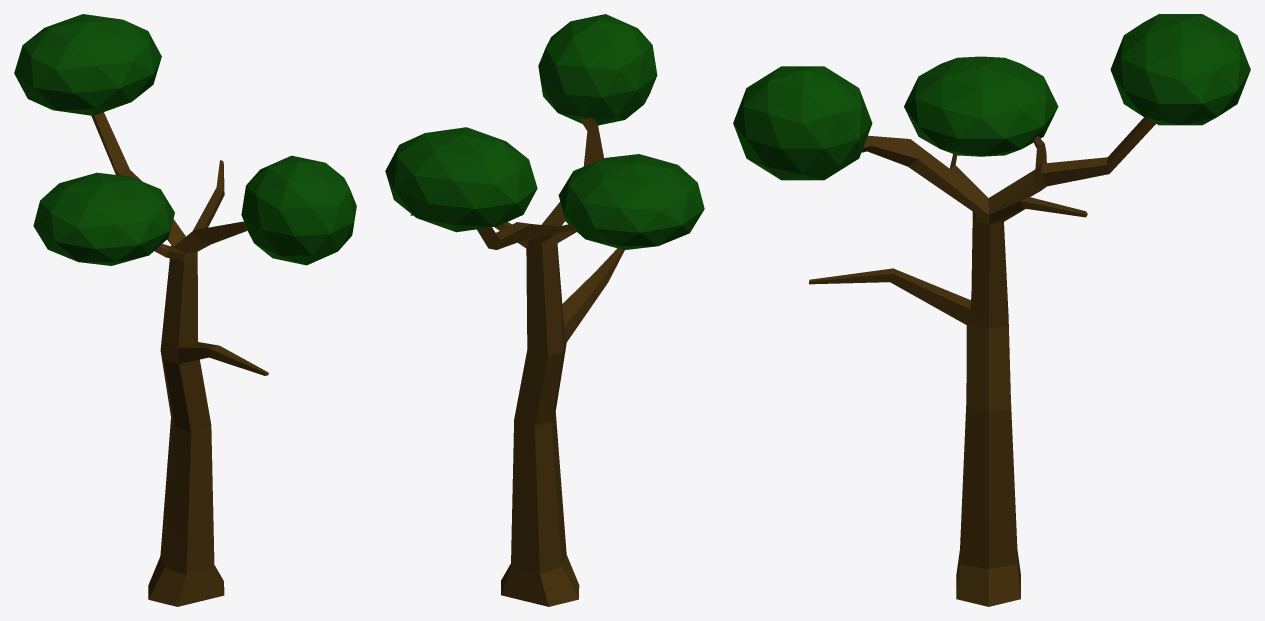
The model's file is _tree1.fbx.
3 renders of one model, left to right at view 1: azimuth 30°, elevation 25°; view 2: azimuth 150°, elevation 25°; view 3: azimuth 270°, elevation 25°, orthographic. The views are drawn at different scales.
Visible parts, largest first — view 1: TreeTrunk, TreeStump; view 2: TreeTrunk, TreeStump; view 3: TreeTrunk, TreeStump.
Part boxes in pixels (bbox=[...]): TreeTrunk: bbox=[14, 14, 356, 532]; TreeStump: bbox=[148, 515, 224, 606]; TreeTrunk: bbox=[385, 14, 704, 530]; TreeStump: bbox=[501, 512, 579, 606]; TreeTrunk: bbox=[733, 14, 1250, 522]; TreeStump: bbox=[956, 505, 1020, 606].
Bounding box in the file's own units: 766 × 1634 × 1373.
